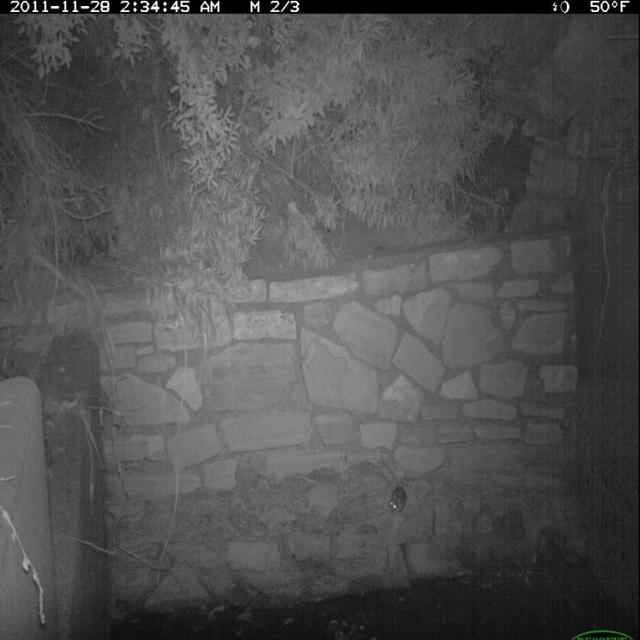rodent: (377, 482, 420, 527)
